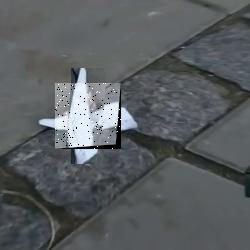restaffald: (55, 83, 121, 149)
